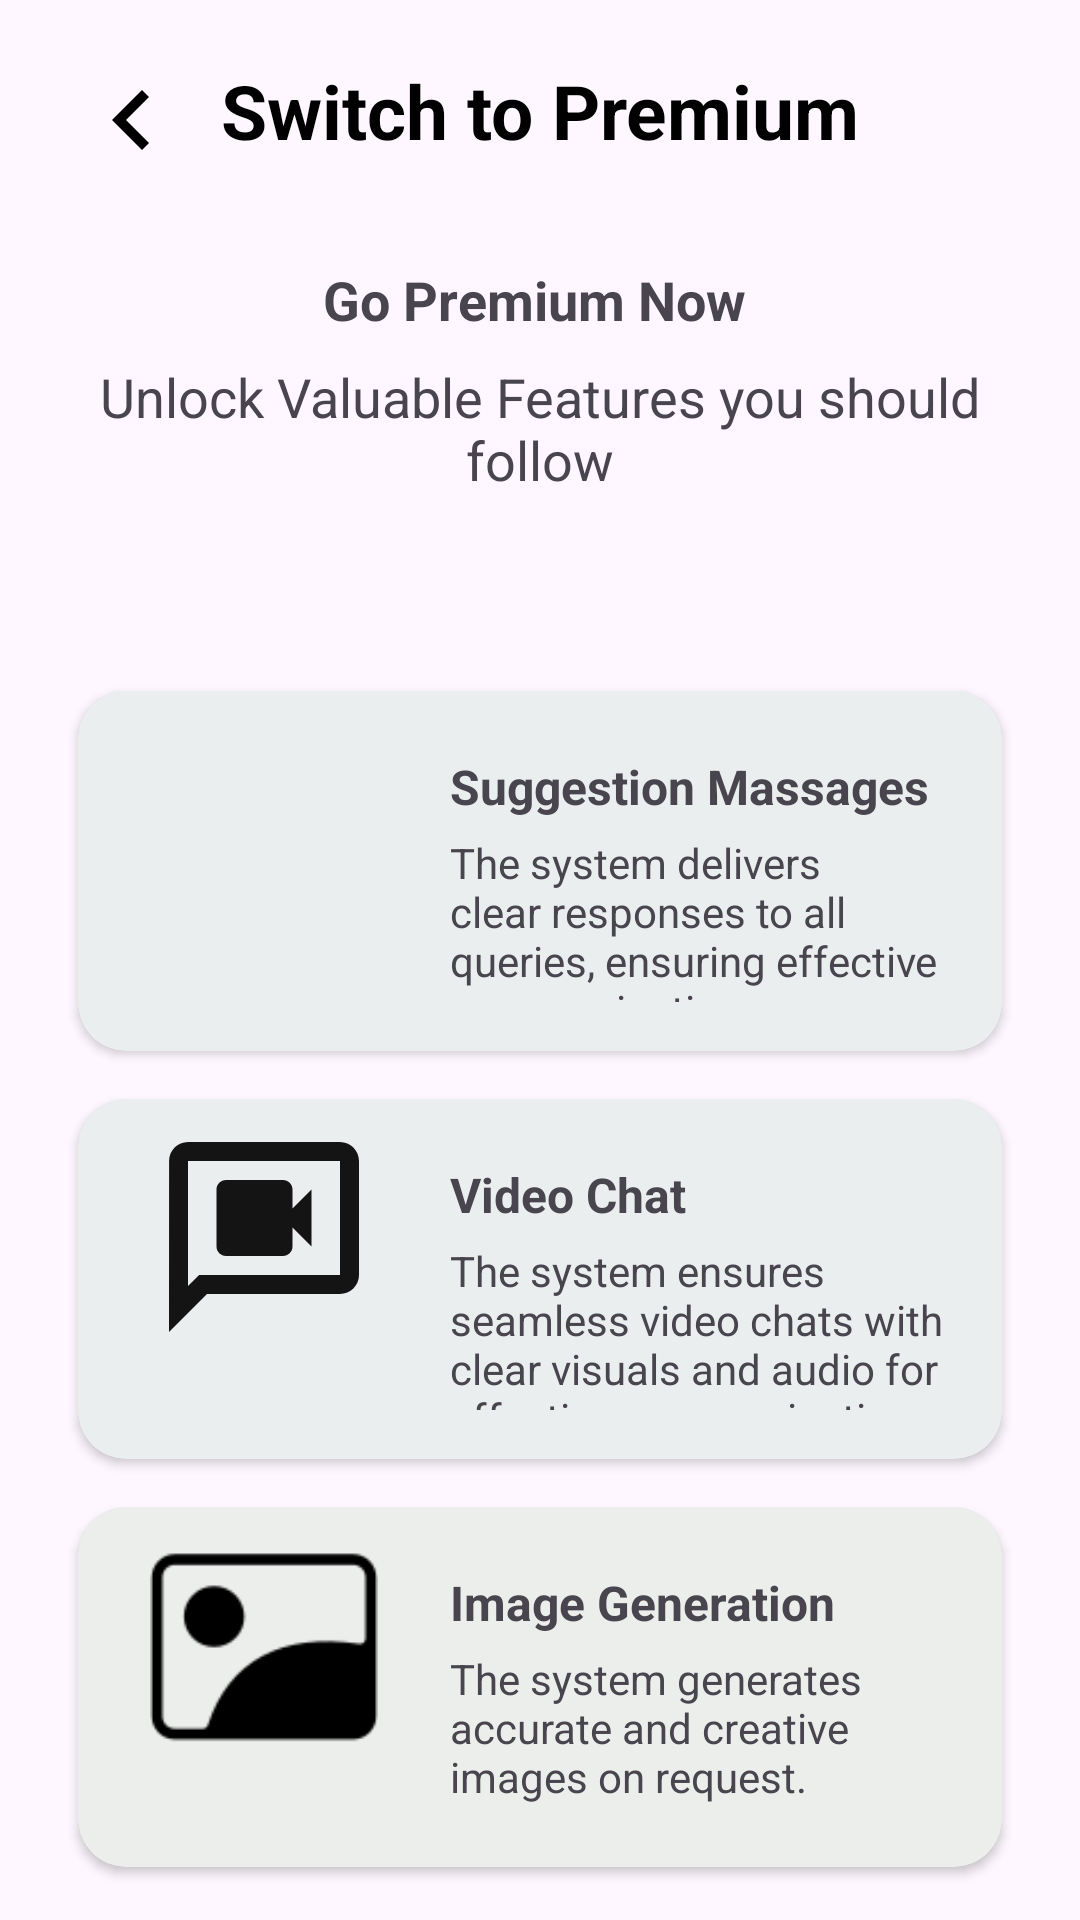

Locate icon controls on the screen. Image size 1080*1920, boxes as (x1, y1, x2, y2).
arrow left: (112, 90, 149, 150)
